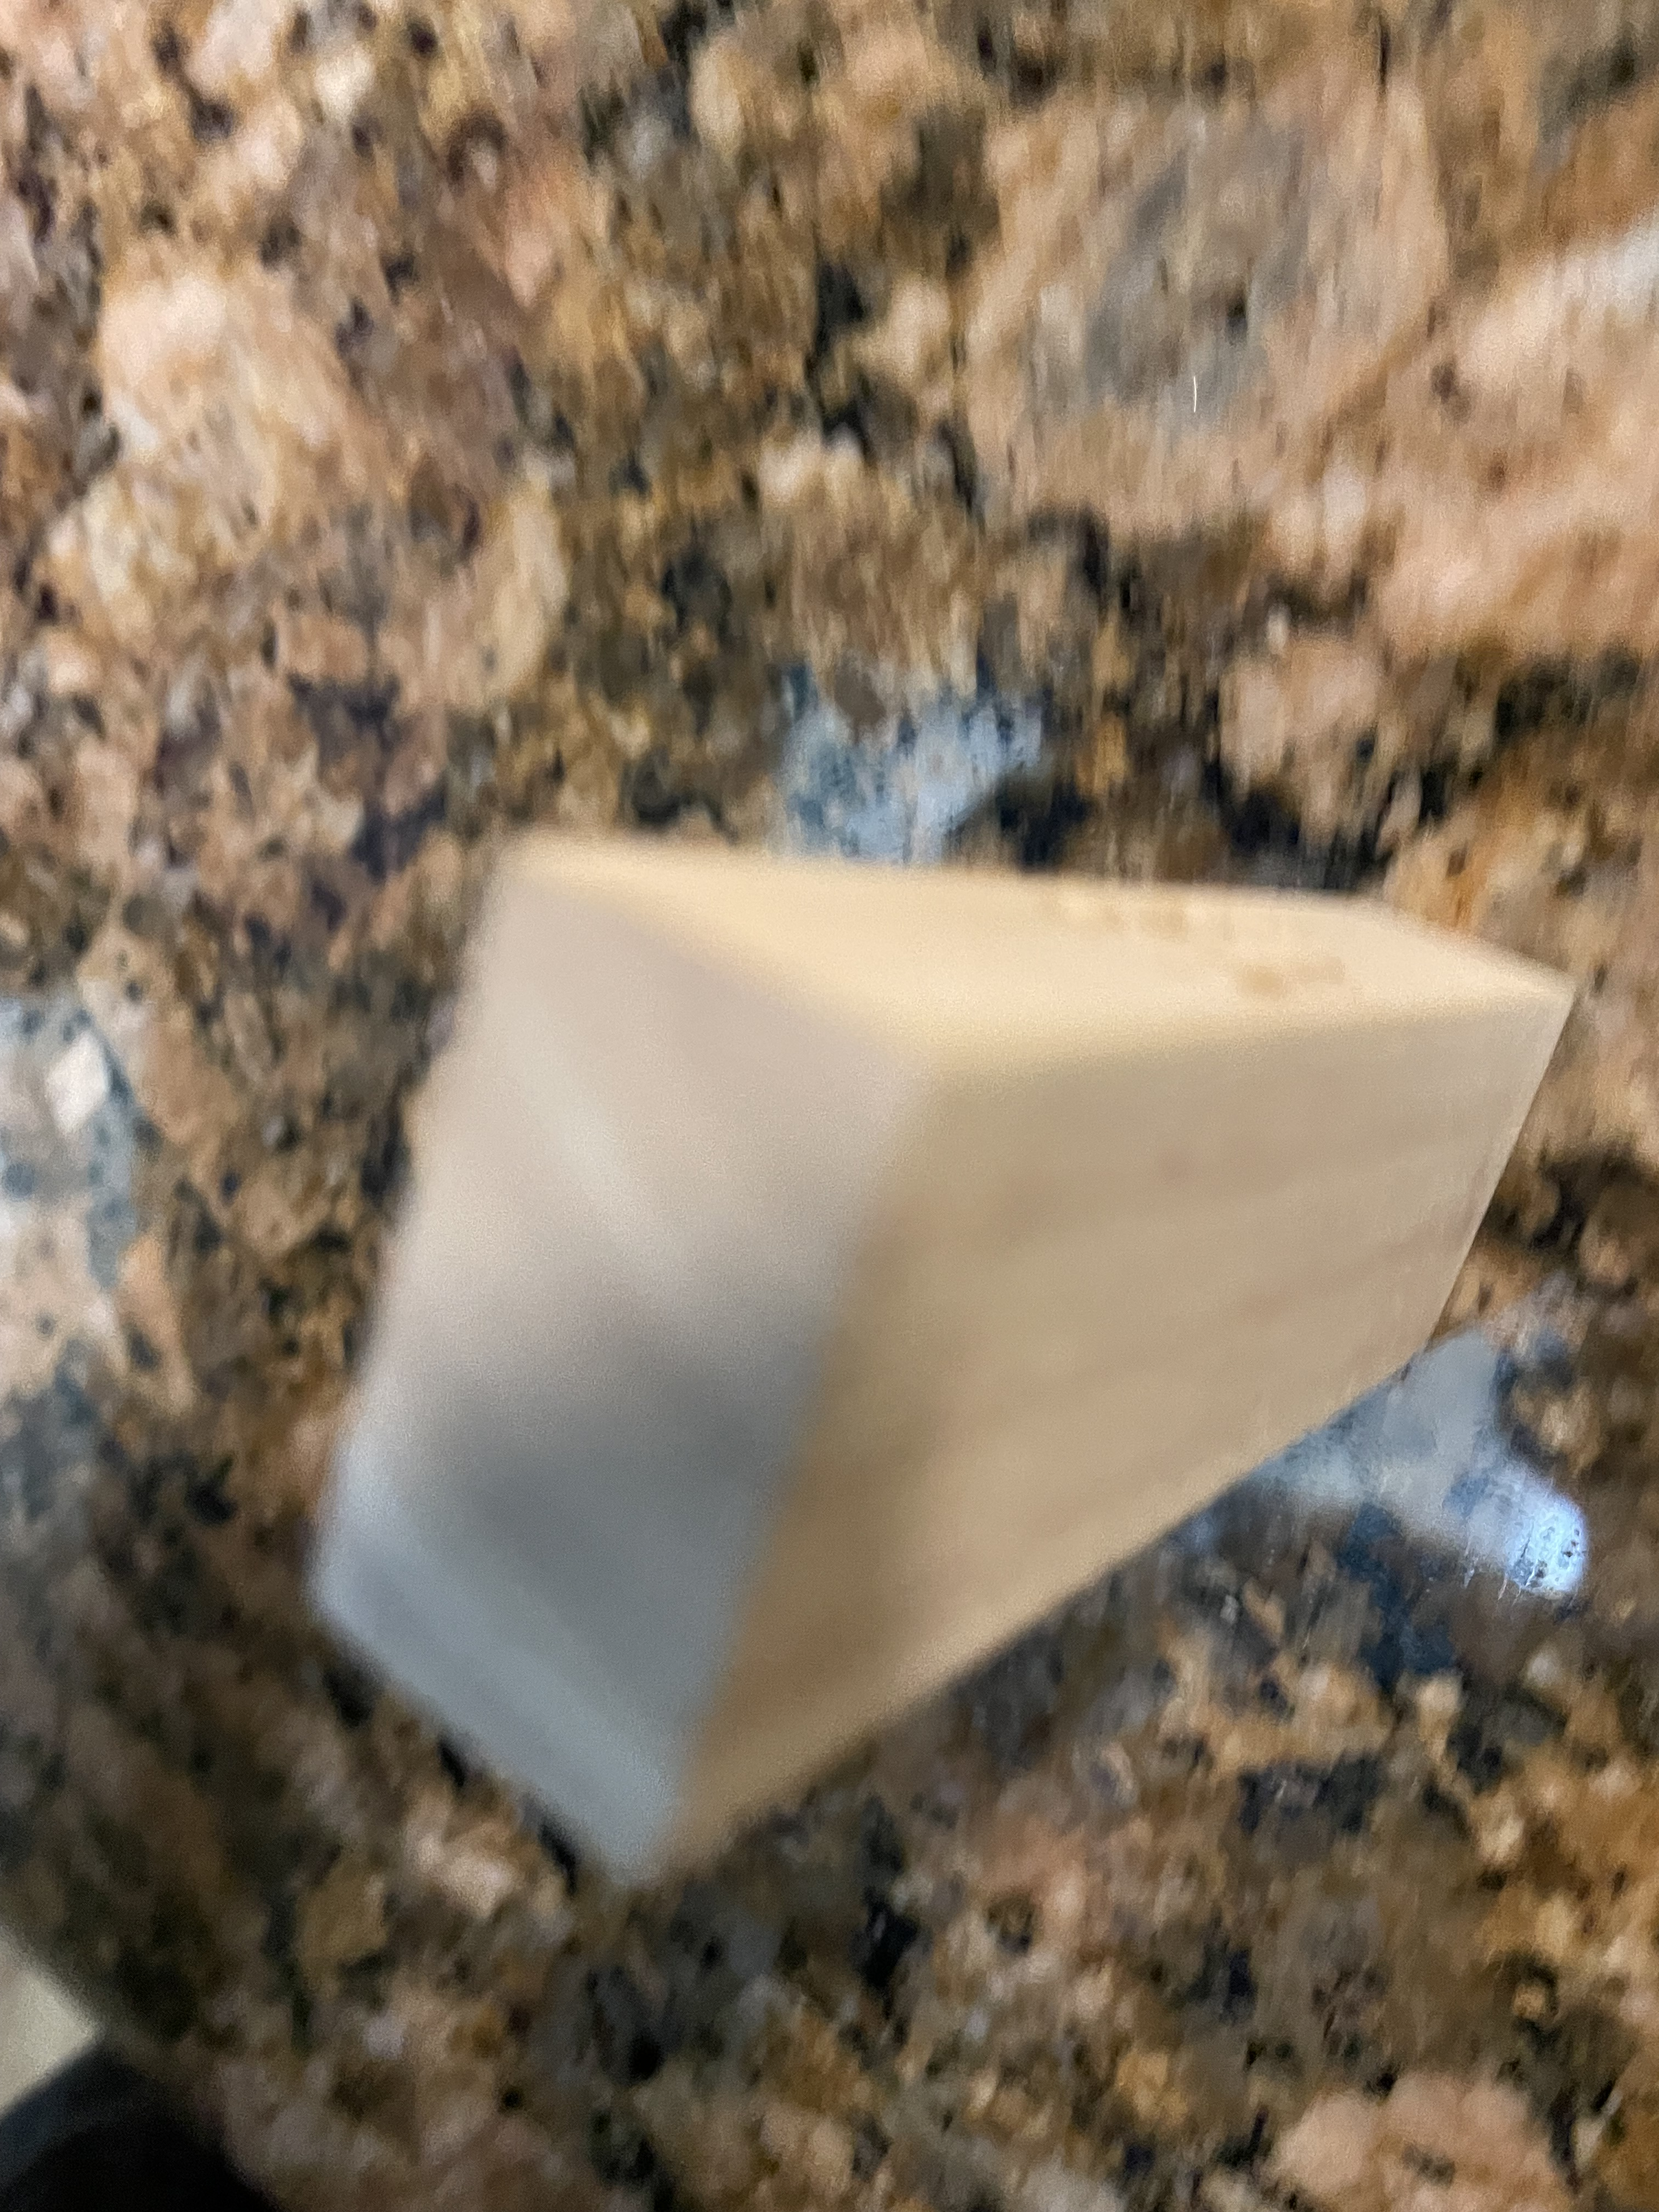jenga: (270, 822, 1574, 1878)
